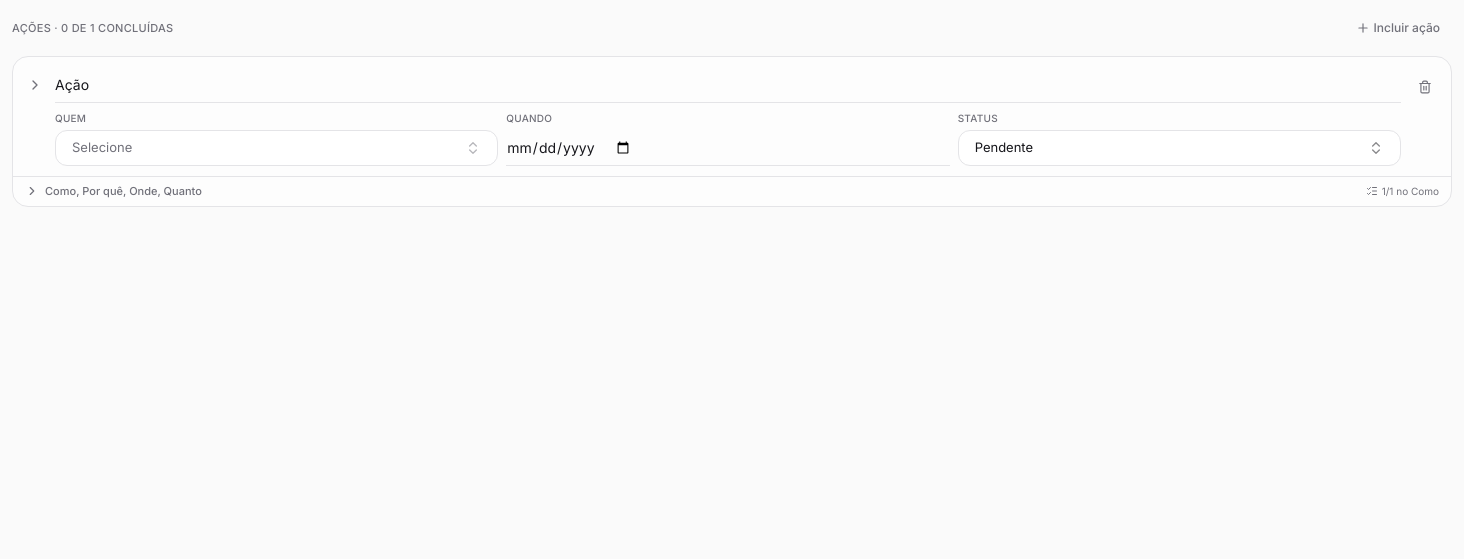
Scenario: AcoesDoPlano — checklist do Como › mostra a data e quem concluiu um passo
Click the button named "Expandir ação" at (35,85), box [23, 73, 47, 97]
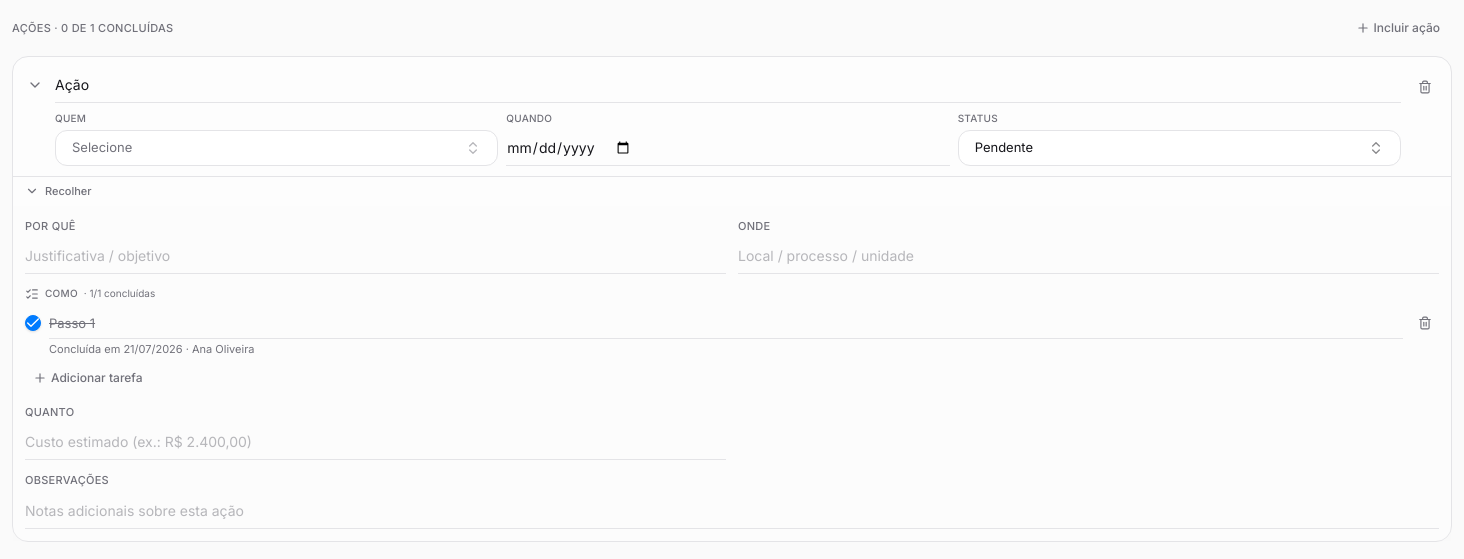
Expected: the text "Concluída em 21/07/2026 · Ana Oliveira" is shown, [49, 342, 254, 356]
Expected: the text "Ana Oliveira" is shown, [183, 342, 254, 356]
